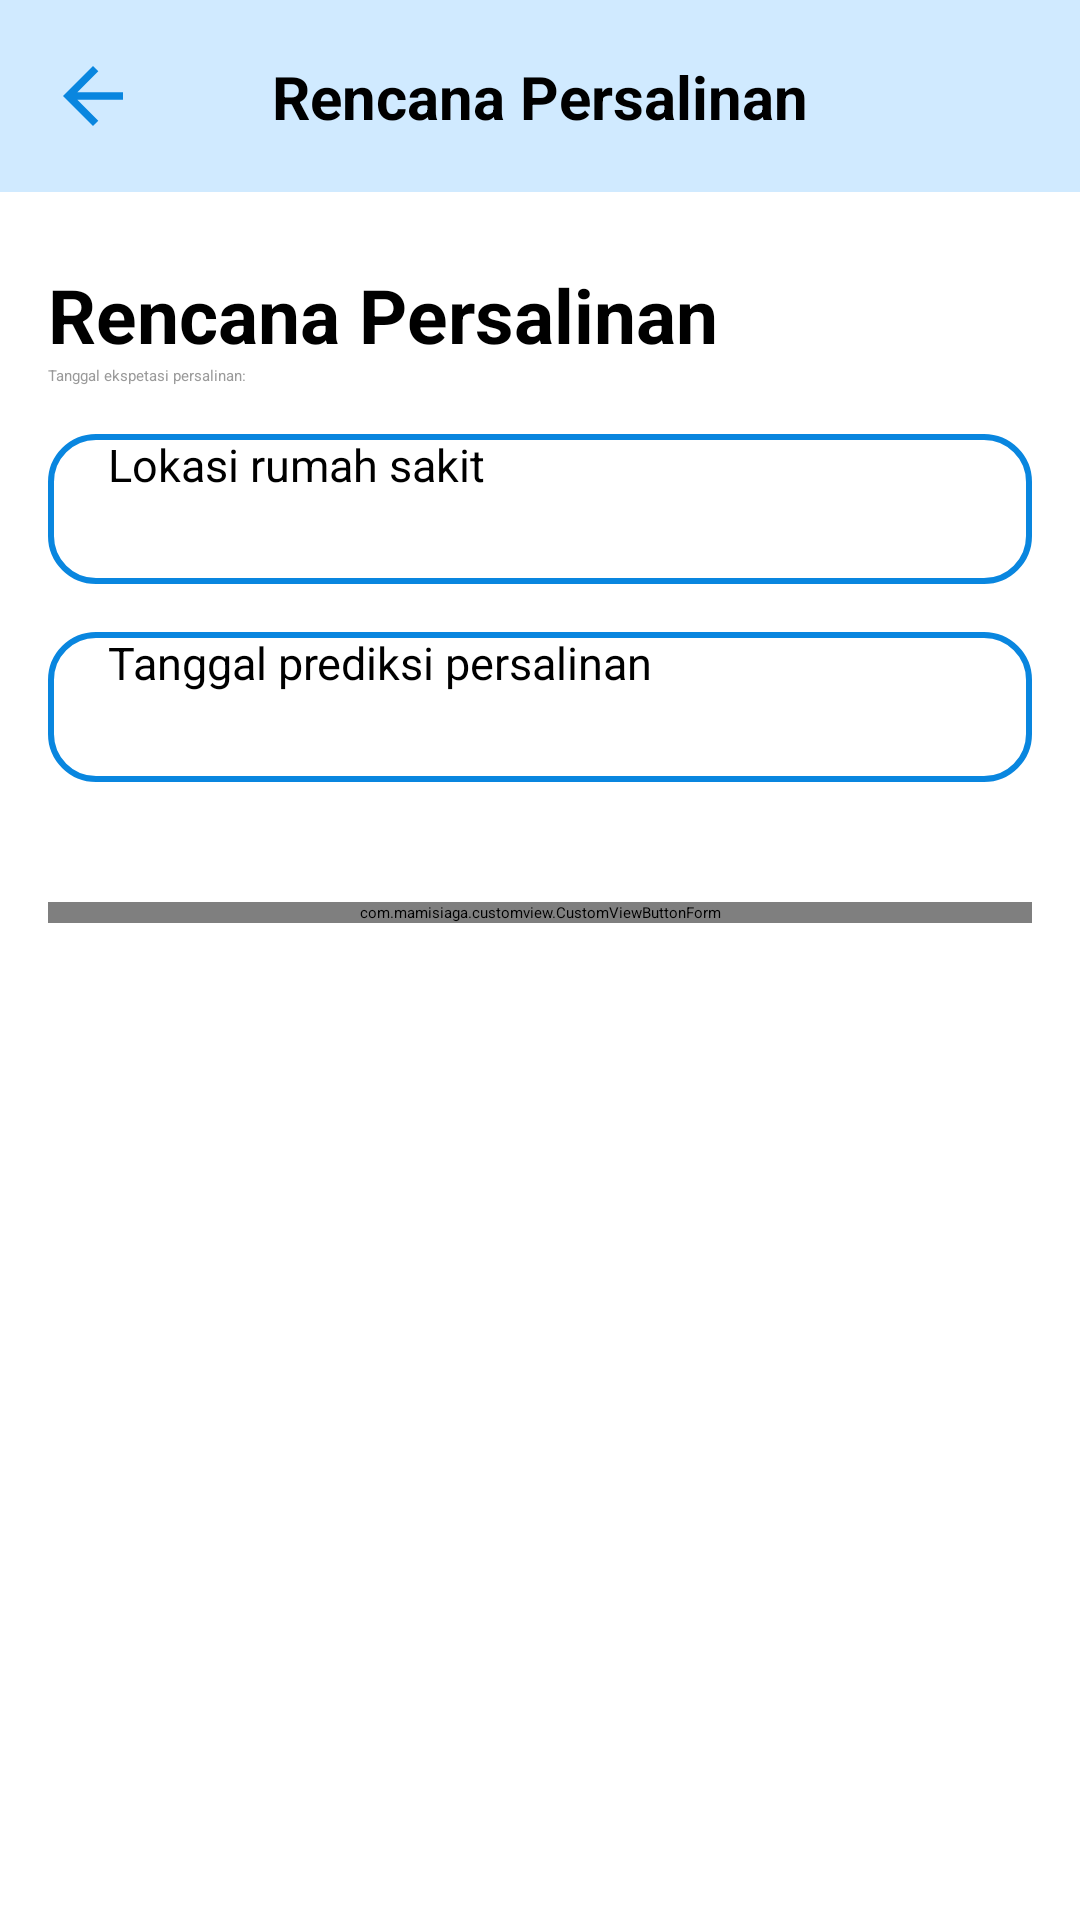

Icon bounding boxes for this 1080px x 1920px phone screenshot, format rect(x1, y1, x2, y2):
arrow back: rect(63, 66, 123, 126)
